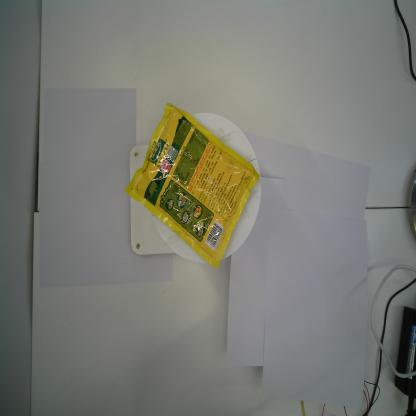Seasoner: (125, 102, 262, 271)
